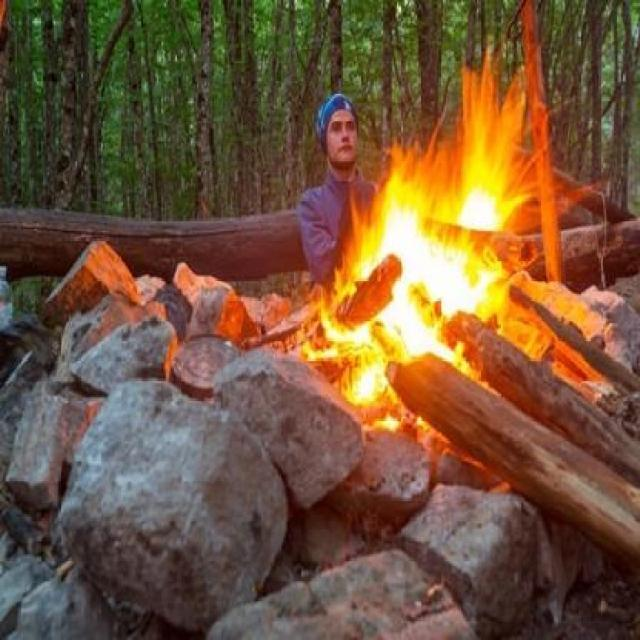Fire: (287, 130, 565, 416)
